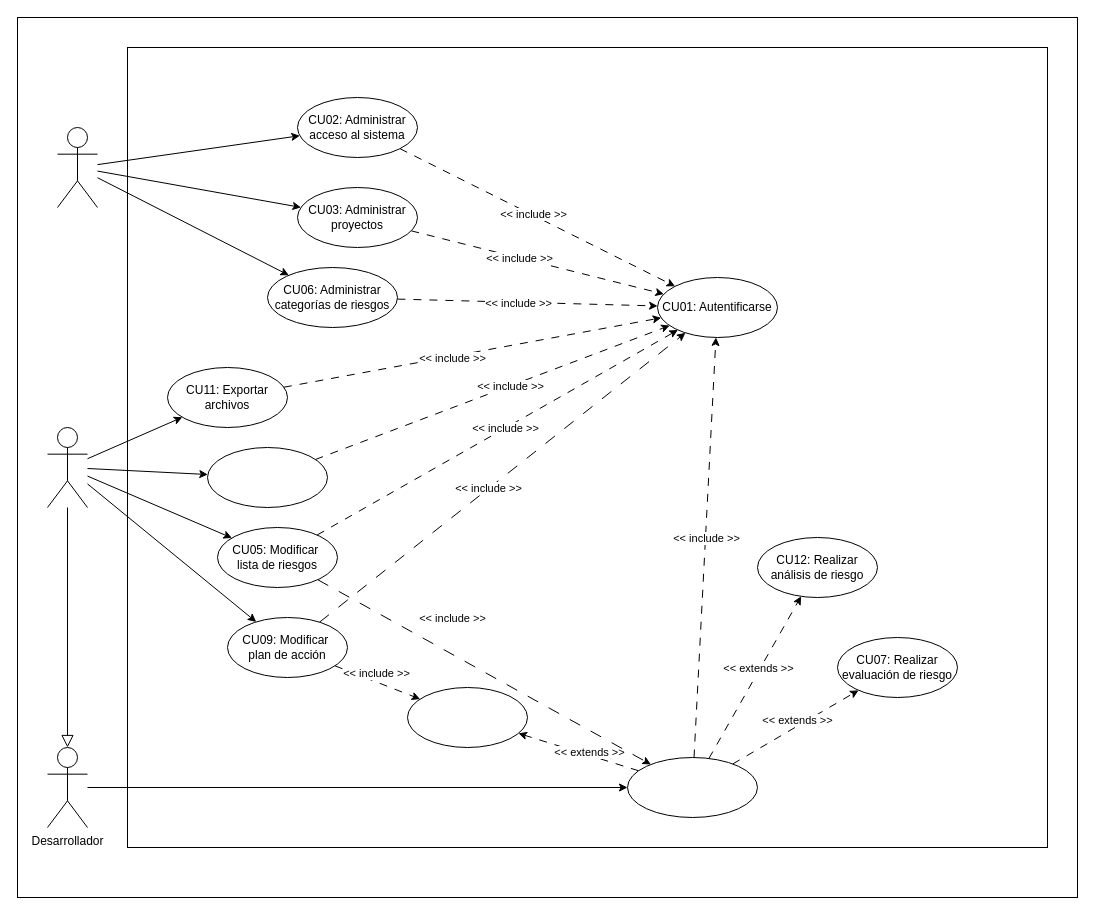
Some shapes in this 1095 by 915 pixel diagram are drawn without their labels. The centre of each missing label's shape, as x and y in pixels:
Administrador: (77,167)
CU04: Añadir riesgos a la lista: (692,787)
CU08: Añadir plan de acción: (467,717)
CU10: Realizar y solicitar informes: (267,477)
Lider del proyecto: (67,467)
